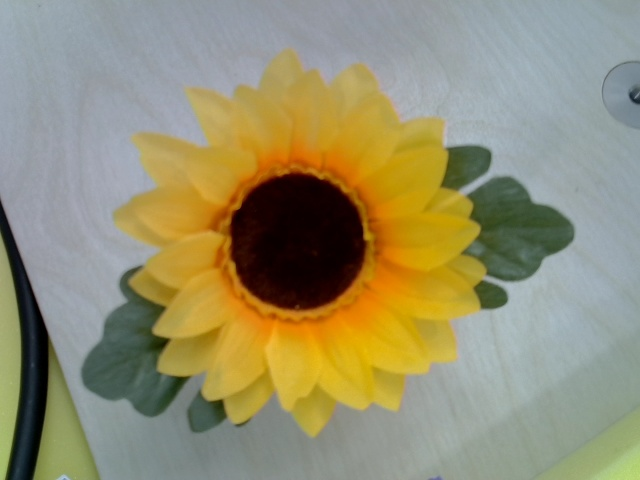해바라기: (117, 57, 484, 430)
